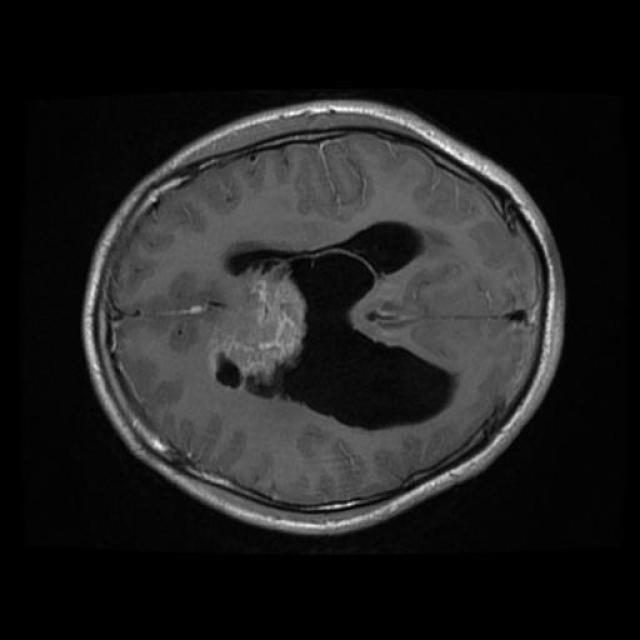Glioma: (215, 260, 306, 385)
